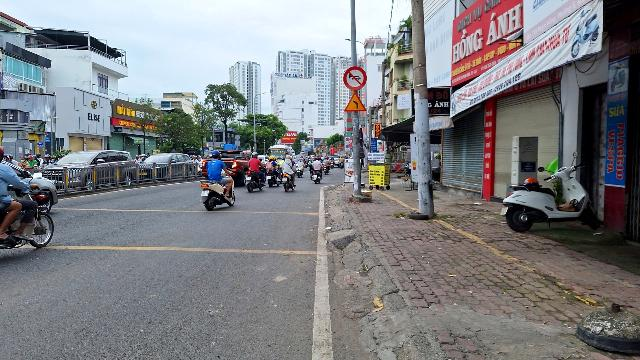cam-bop-coi: (343, 66, 368, 91)
cho-ngoat-nguy-hiem-ben-trai: (344, 91, 367, 111)
